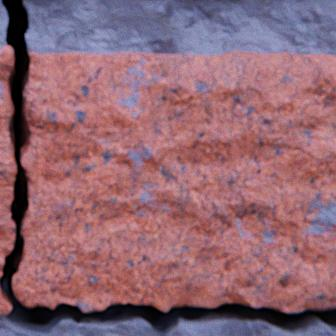broken_brick: (12, 51, 335, 311), (0, 45, 16, 275), (0, 289, 11, 313)
crack: (0, 0, 335, 335)
